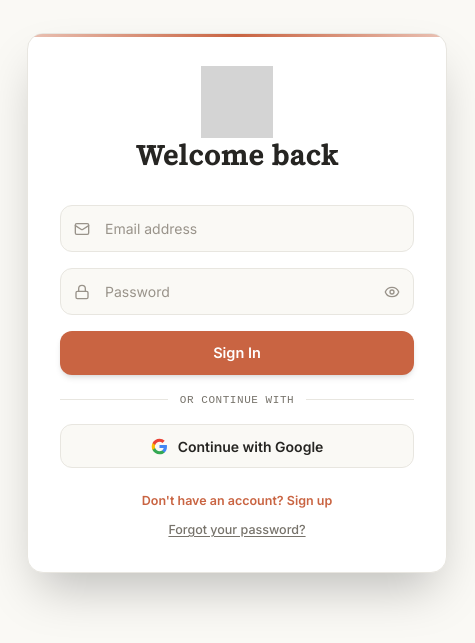
Test case: Auth Flow › detects already registered email during signup
Click the button "Don't have an account? Sign up" at coordinates (237, 502), box left=142, top=492, right=332, bottom=511
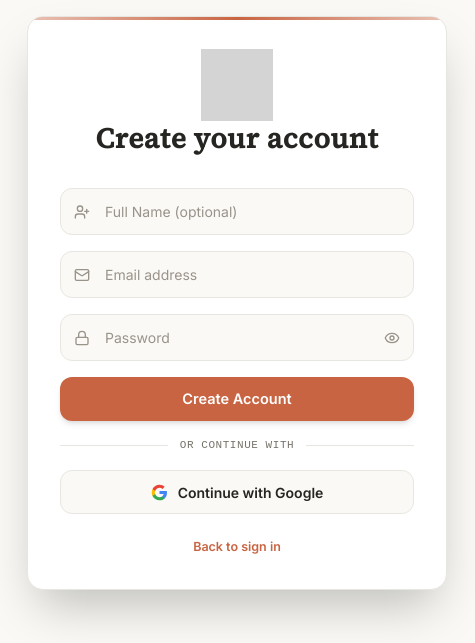
Type "test@test.com" into the field with placeholder "Email address" at coordinates (237, 275), box left=60, top=251, right=414, bottom=298
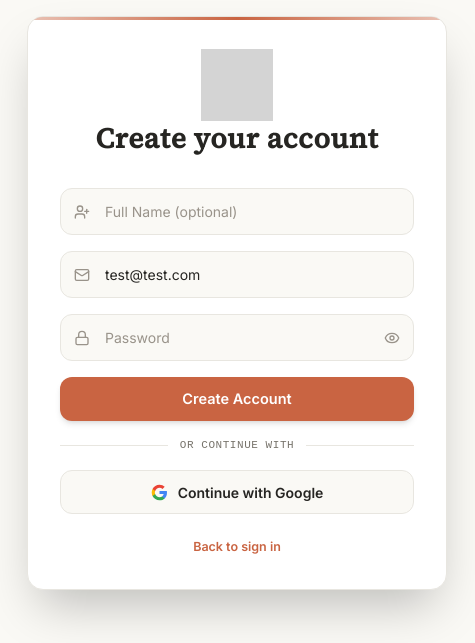
Type "password123" into the password field with placeholder "Password" at coordinates (237, 338), box left=60, top=314, right=414, bottom=361
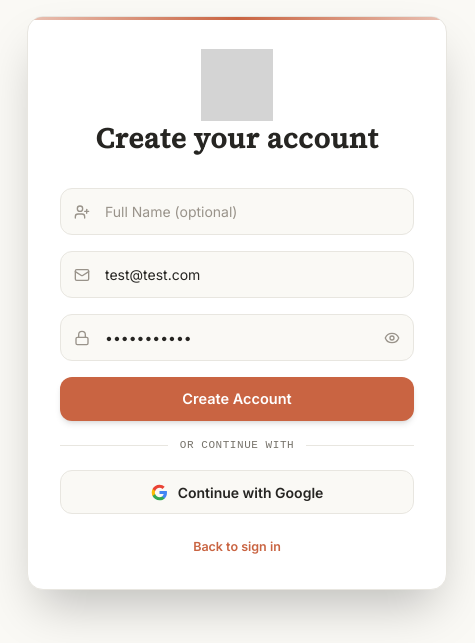
Click the button "Create Account" at coordinates (237, 399), box left=60, top=377, right=414, bottom=421
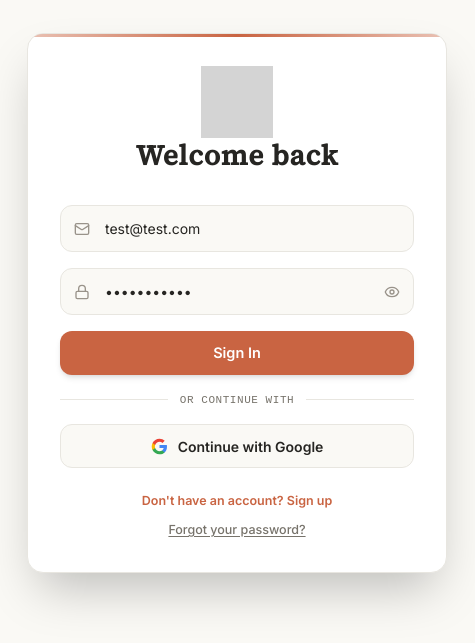
Result: the text "Sign In" is shown at left=213, top=342, right=261, bottom=364
